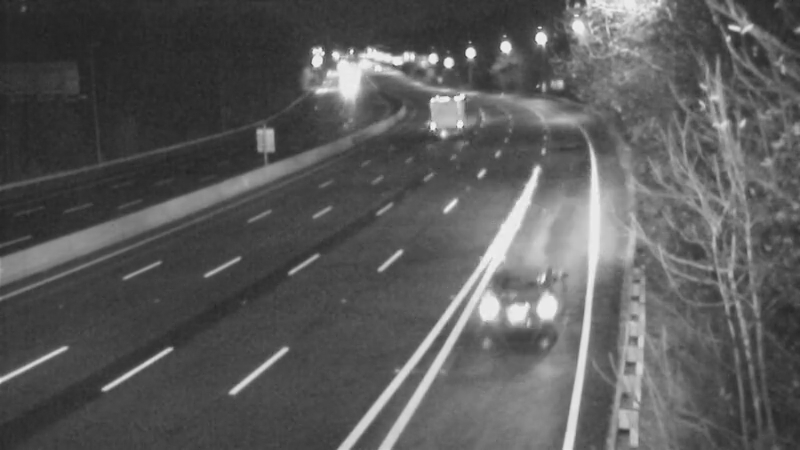vehicle: (464, 254, 574, 364), (426, 78, 476, 128), (321, 62, 371, 112)
